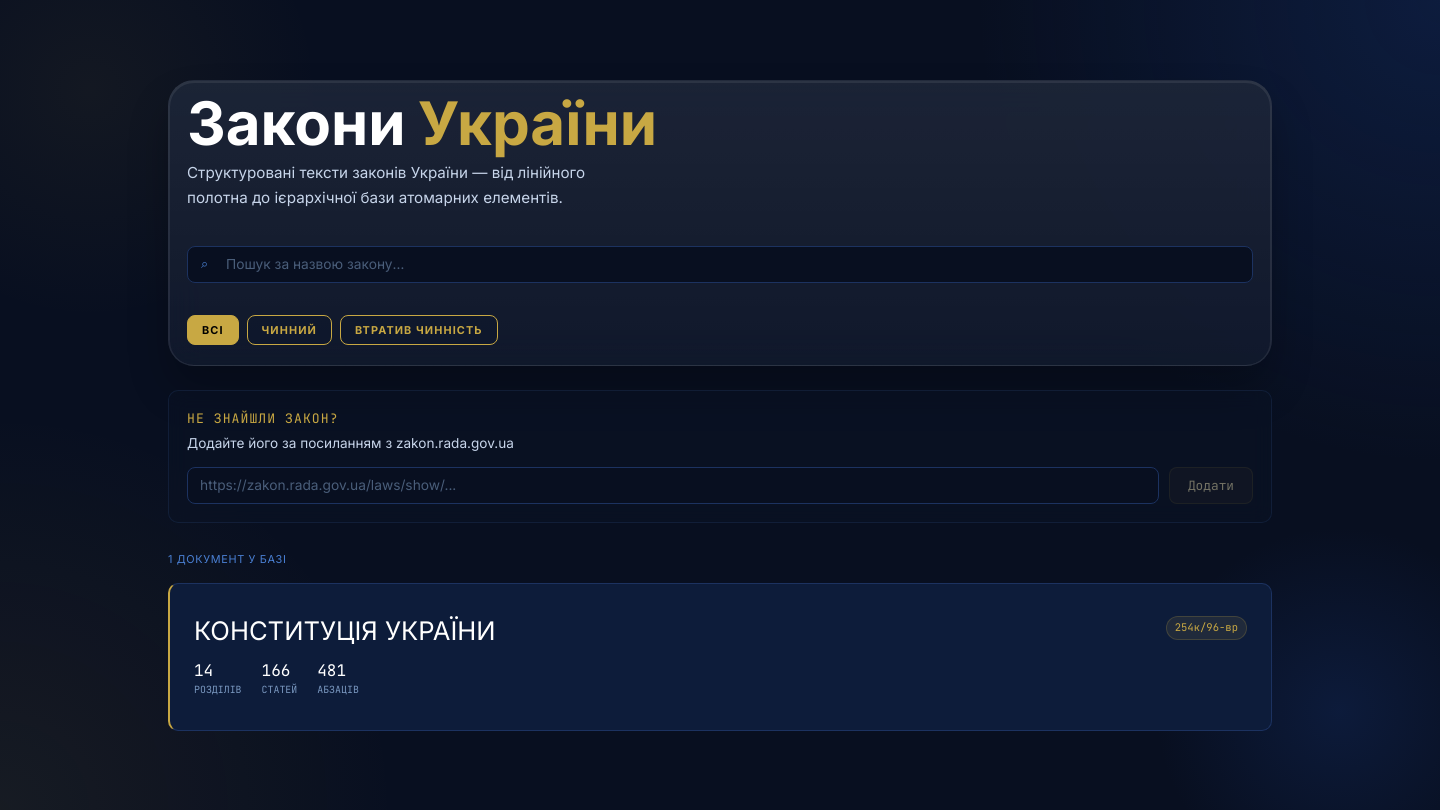
Scenario: Laws page › renders the laws catalogue and reacts to search input
The image size is (1440, 810).
expect the heading "Закони" is shown: met, box [187, 87, 406, 159]
expect the text "України" is shown: met, box [418, 87, 657, 159]
Type "zzz" into the field with placeholder "Пошук за назвою закону…" at (720, 264), box [187, 246, 1253, 283]
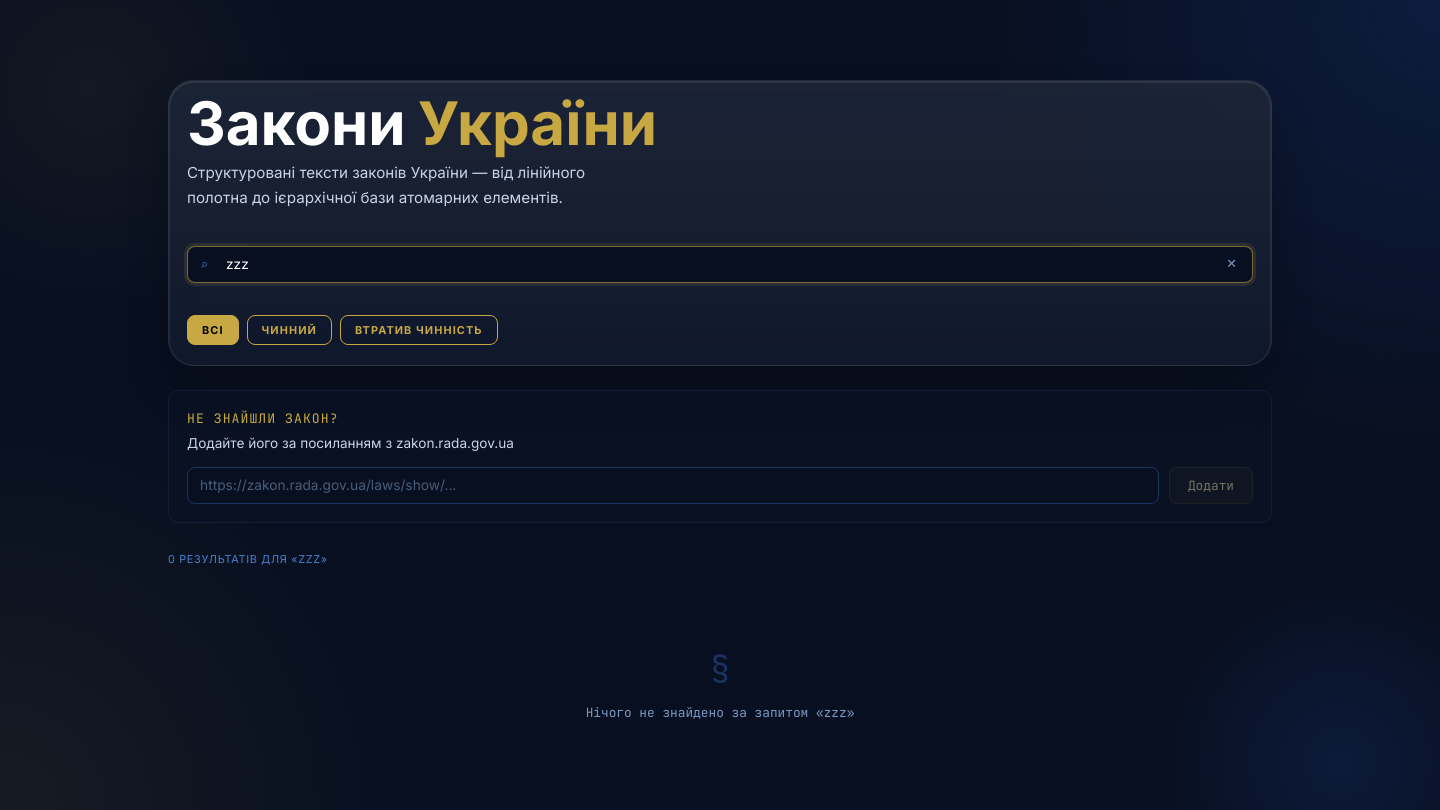
expect the text "§ Нічого не знайдено за запитом «zzz»" is shown: met, box [586, 645, 854, 721]
